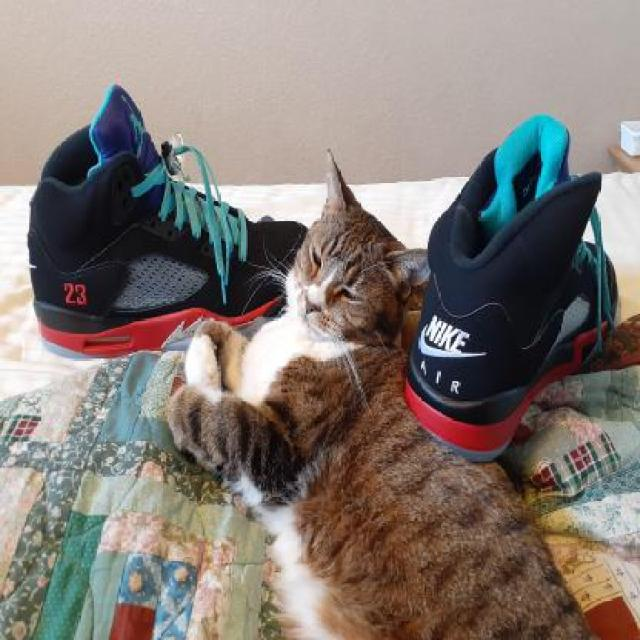shoe: (402, 112, 620, 462), (27, 84, 310, 338)
